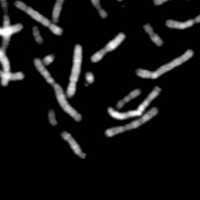chromosome: (33, 57, 82, 122), (107, 86, 162, 119), (14, 0, 64, 36), (136, 49, 194, 79), (104, 107, 157, 136), (92, 32, 126, 63), (66, 45, 81, 99), (167, 9, 200, 30), (61, 131, 85, 158), (0, 46, 16, 85), (0, 9, 24, 35), (115, 86, 140, 109), (0, 56, 23, 79), (0, 14, 11, 61), (143, 23, 162, 47), (50, 0, 64, 22), (90, 0, 107, 18), (30, 25, 43, 45), (153, 0, 192, 6), (82, 72, 95, 87), (42, 53, 55, 68), (47, 109, 57, 125), (0, 0, 9, 9), (105, 0, 122, 1)
